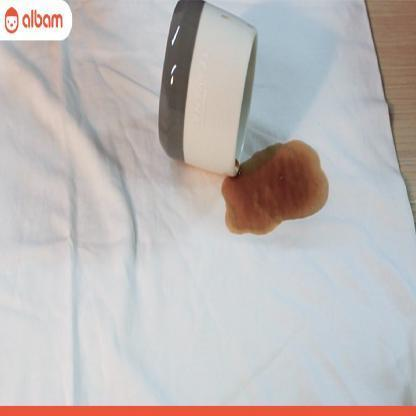coffee: (246, 154, 300, 215)
